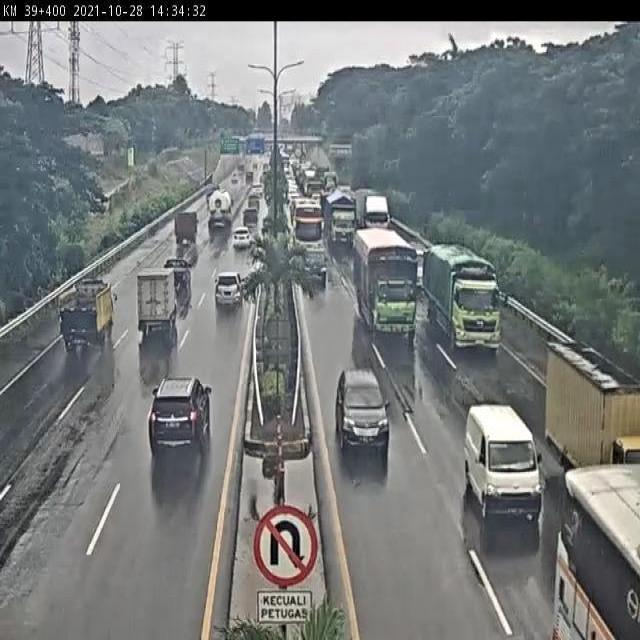car: (459, 403, 542, 521), (337, 369, 392, 456), (149, 377, 213, 451), (137, 272, 177, 344), (214, 270, 247, 314), (398, 234, 422, 282), (301, 252, 332, 288), (160, 263, 189, 299), (231, 230, 253, 254), (238, 216, 257, 235), (244, 198, 259, 214)
truck: (508, 406, 640, 640), (523, 330, 640, 454), (421, 241, 499, 351), (353, 227, 415, 340), (59, 277, 119, 355), (323, 187, 355, 248), (290, 193, 324, 247), (355, 187, 390, 233), (204, 189, 233, 236), (173, 213, 200, 252)
